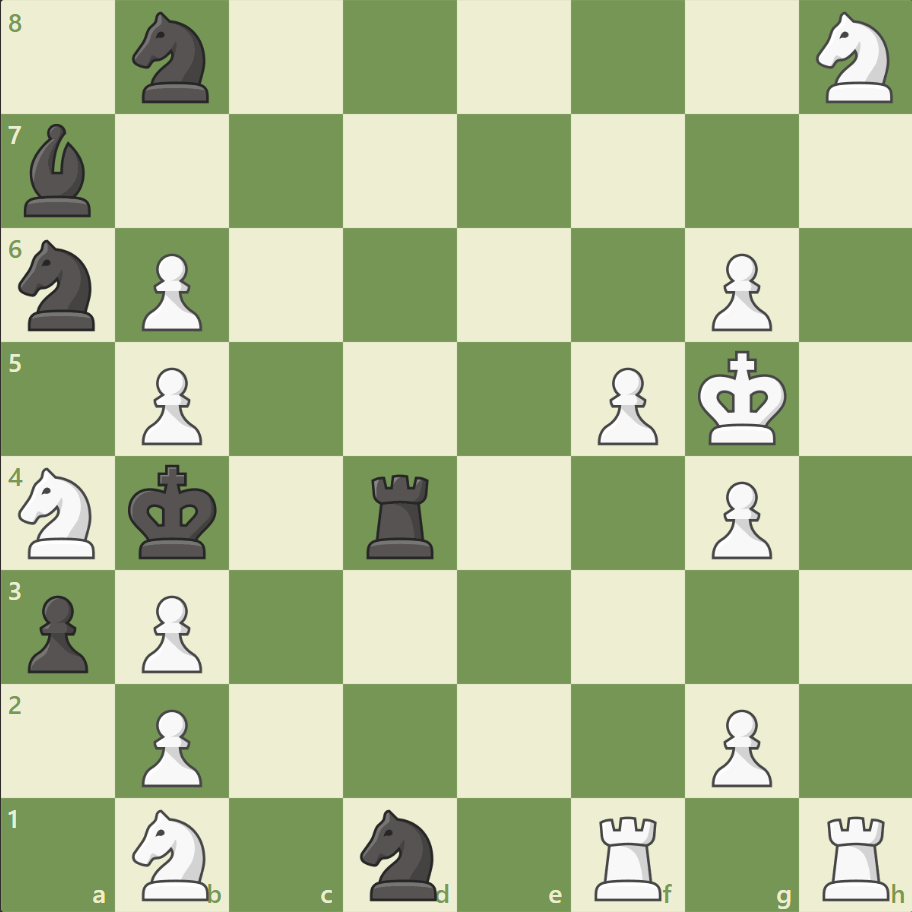K: (692, 344, 792, 452)
N: (124, 802, 222, 904), (806, 7, 903, 110), (11, 461, 108, 564)
P: (133, 246, 208, 337), (701, 246, 776, 337), (133, 359, 208, 450), (701, 473, 776, 564), (133, 586, 208, 677), (133, 700, 208, 791), (701, 700, 776, 791), (588, 359, 662, 450)
R: (587, 806, 670, 904), (814, 806, 897, 904)
b: (17, 120, 101, 222)
k: (124, 458, 224, 566)
n: (124, 7, 222, 110), (351, 802, 449, 904), (11, 234, 108, 337)
p: (20, 586, 95, 677)
r: (360, 466, 442, 563)
